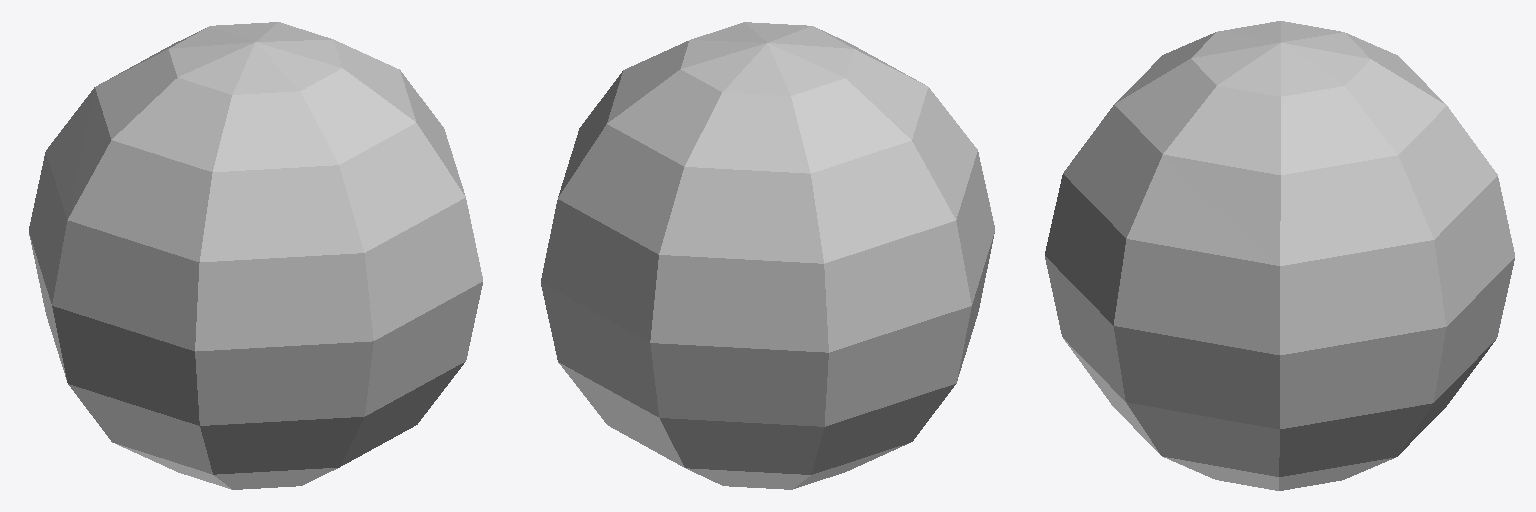
File: Pokeball.obj
The picture shows the model from 3 angles: view 1: azimuth 30°, elevation 25°; view 2: azimuth 150°, elevation 25°; view 3: azimuth 270°, elevation 25°; orthographic projection.
Parts seen in each view (by area): view 1: polygon0; view 2: polygon0; view 3: polygon0.
Part boxes in pixels (x1,y1,x2,y2): polygon0: (29,22,482,489); polygon0: (541,22,994,489); polygon0: (1045,21,1514,490).
Size of the model in its own units: 6 by 6 by 6.